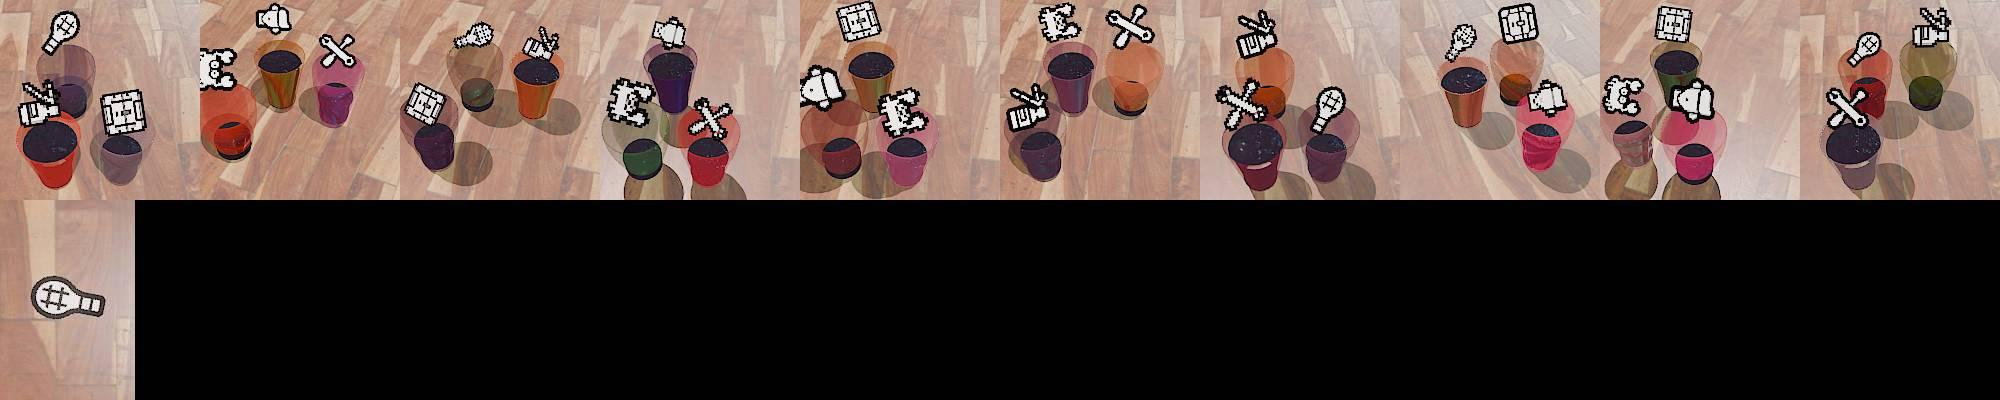icon: (27, 274, 112, 321), (875, 85, 929, 138), (1214, 79, 1267, 130), (603, 75, 654, 127), (797, 64, 847, 113), (1008, 82, 1055, 131), (99, 88, 148, 135), (1106, 4, 1154, 51), (1235, 9, 1277, 61), (1670, 76, 1716, 122), (18, 79, 62, 126), (686, 97, 735, 140), (834, 0, 883, 43), (402, 80, 448, 125), (1601, 74, 1645, 117), (1038, 1, 1082, 45), (199, 46, 240, 92), (1310, 85, 1347, 135), (1497, 3, 1540, 45), (1824, 87, 1869, 126), (41, 11, 79, 57), (1913, 8, 1954, 50), (522, 24, 562, 64), (1527, 76, 1569, 115), (1654, 5, 1693, 45), (1445, 22, 1480, 62), (1844, 32, 1881, 69), (651, 15, 687, 51), (319, 33, 357, 68), (255, 3, 293, 34), (453, 20, 494, 50)
